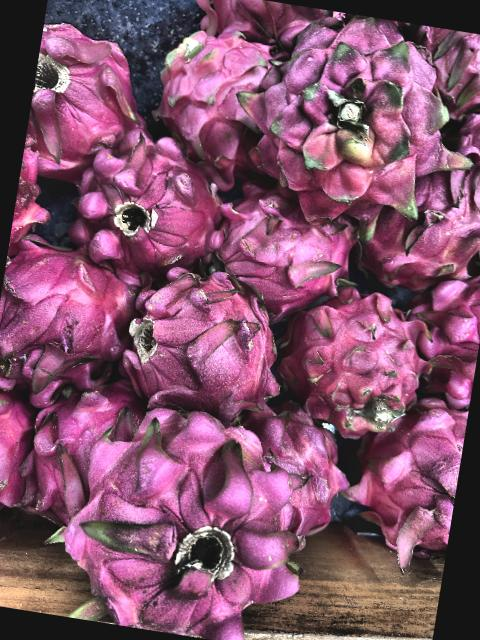buah-naga-matang: (53, 389, 332, 640), (235, 4, 480, 241), (117, 266, 291, 418), (282, 274, 436, 441), (146, 12, 292, 176), (0, 230, 140, 401), (75, 137, 230, 285), (22, 16, 158, 180), (206, 176, 360, 320), (351, 134, 480, 300), (24, 378, 153, 540), (350, 396, 468, 566), (233, 391, 364, 544), (406, 270, 480, 383), (0, 379, 47, 548), (403, 24, 480, 122), (442, 106, 480, 207)
